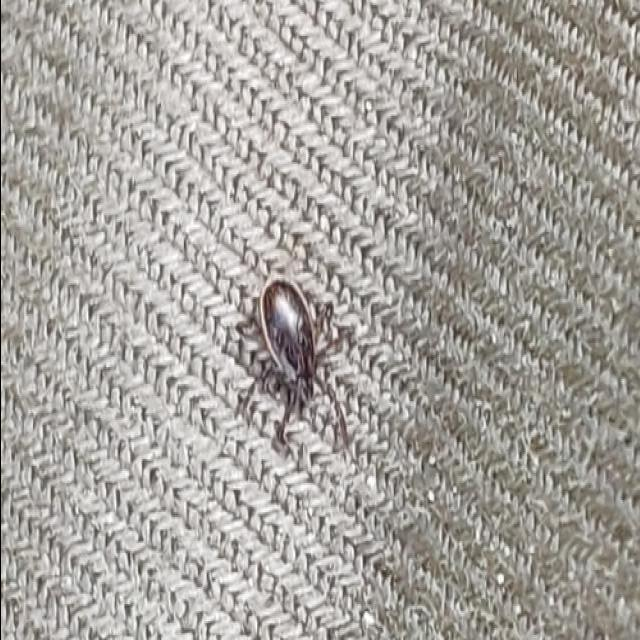Ixodes Ricinus-M: (237, 275, 333, 445)
